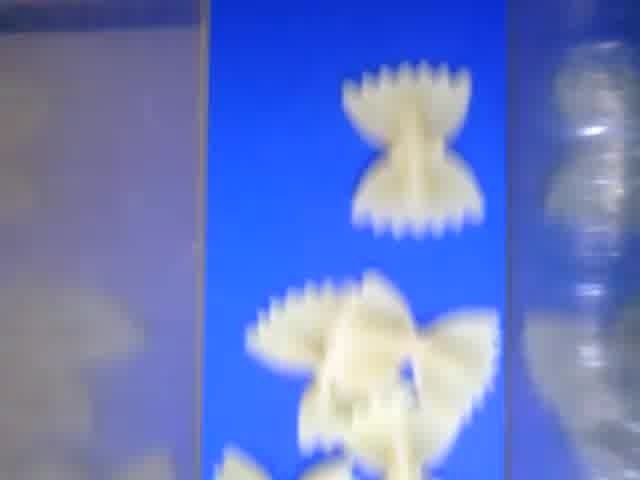farfalle: (342, 60, 487, 236), (348, 269, 498, 426), (251, 279, 371, 452)
